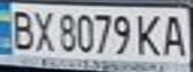0: (75, 10, 93, 54)
7: (90, 10, 115, 55)
8: (54, 9, 78, 53)
9: (112, 11, 136, 56)
A: (160, 11, 190, 57)
B: (6, 6, 36, 52)
K: (133, 10, 166, 57)
X: (30, 7, 57, 53)
